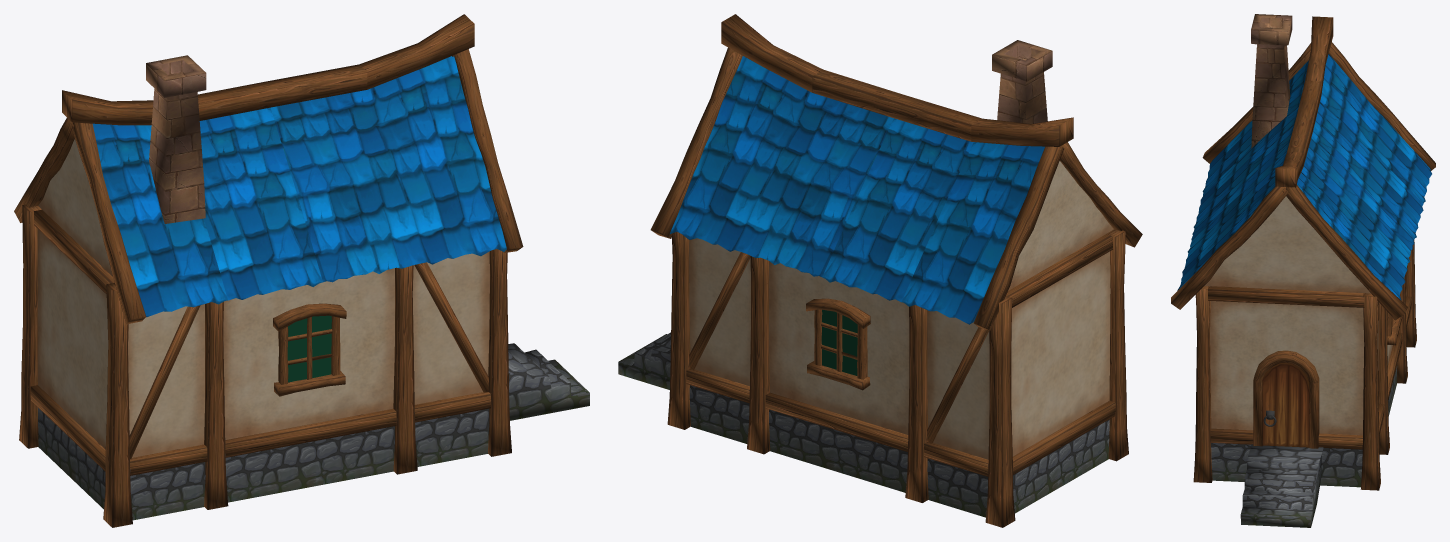
The model's file is SquareHouseA.obj.
3 renders of one model, left to right at view 1: azimuth 30°, elevation 25°; view 2: azimuth 150°, elevation 25°; view 3: azimuth 270°, elevation 25°, orthographic. The views are drawn at different scales.
Visible parts, largest first — view 1: BH3; view 2: BH3; view 3: BH3.
Part boxes in pixels (<box>): BH3: <box>14,14,589,527</box>; BH3: <box>618,14,1142,527</box>; BH3: <box>1171,14,1435,527</box>.
Bounding box in the file's own units: 5.46 × 4.47 × 3.11.
Materials: 3 (2 with a texture image).
